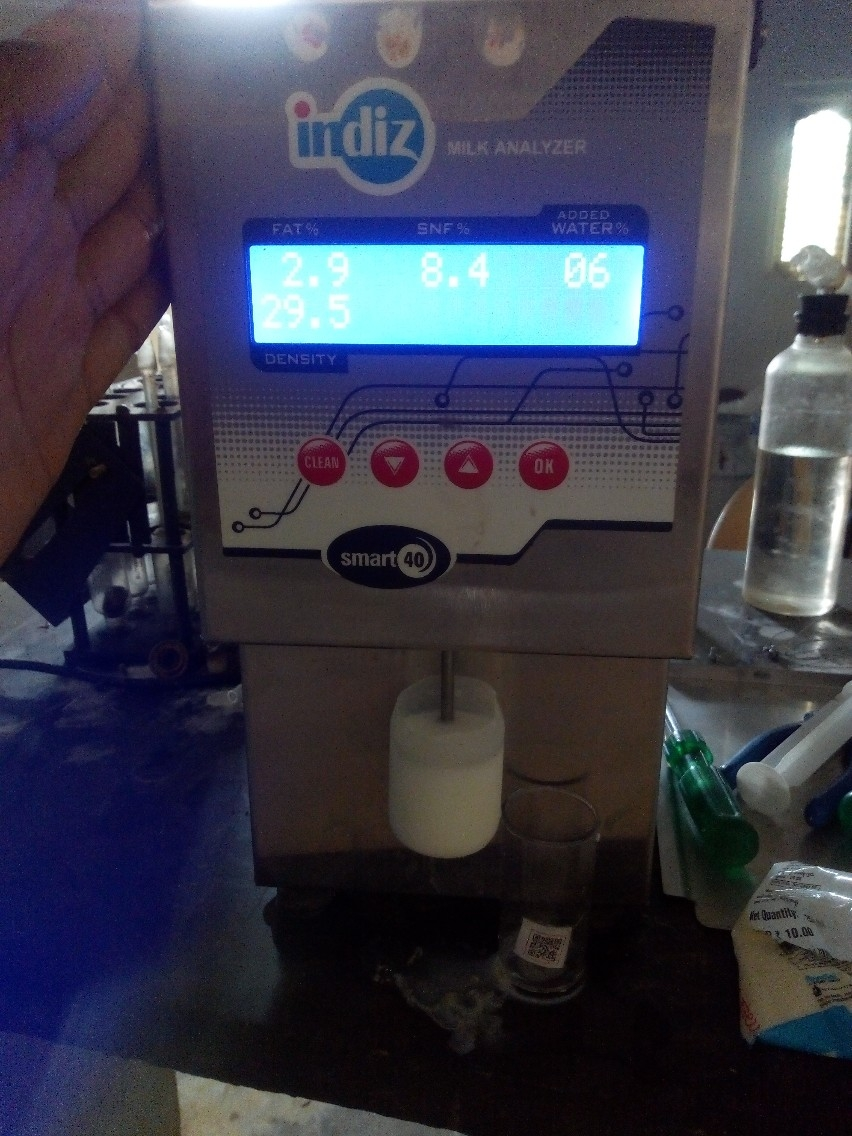lcd: (238, 218, 654, 375)
qr: (516, 914, 574, 971)
